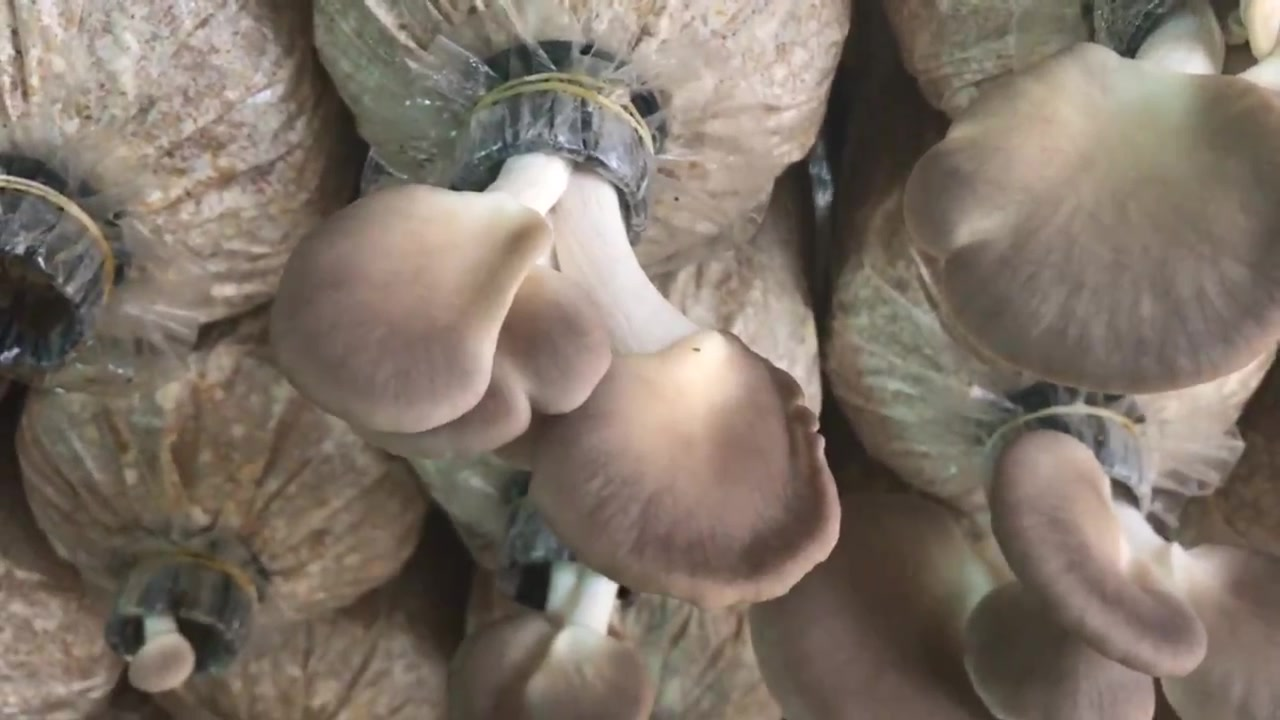nam: (270, 86, 838, 606), (753, 406, 1280, 718), (899, 2, 1279, 396), (447, 506, 650, 720), (108, 556, 238, 694)
